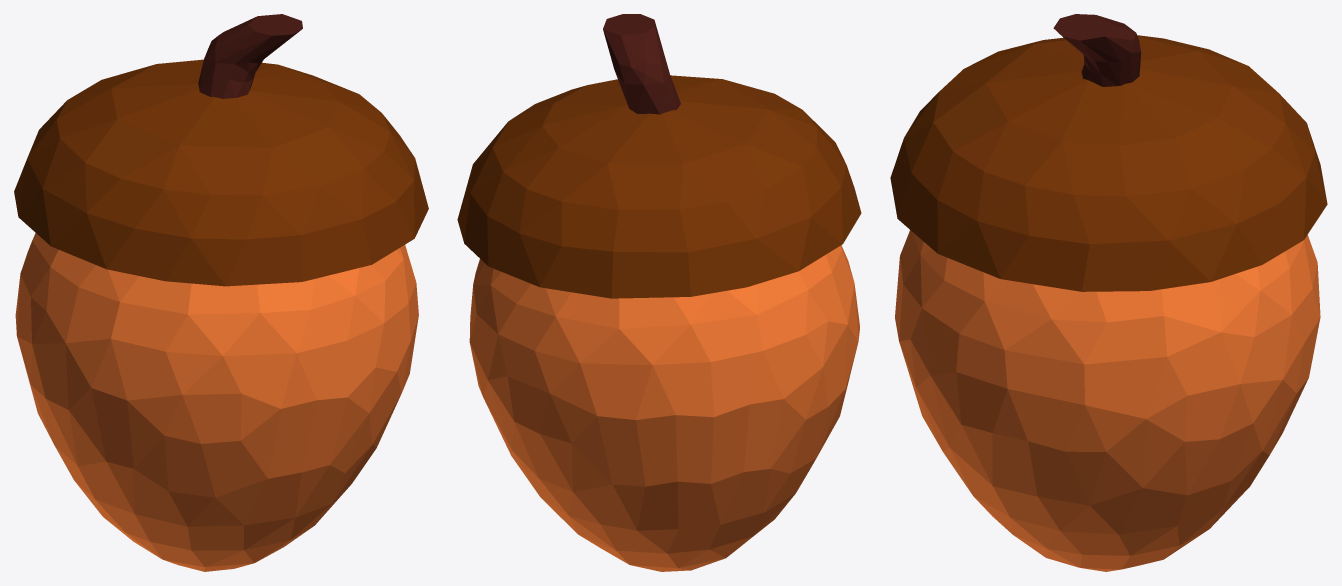
The model's file is Ingredient_acorn_1.fbx.
3 views of the same model, side by side, from view 1: azimuth 30°, elevation 25°; view 2: azimuth 150°, elevation 25°; view 3: azimuth 270°, elevation 25° (orthographic). The views are drawn at different scales.
Visible parts, largest first — view 1: Jar_Acorn.002; view 2: Jar_Acorn.002; view 3: Jar_Acorn.002.
Boxes of the visible parts, bbox=[...] form: Jar_Acorn.002: bbox=[14, 14, 428, 571]; Jar_Acorn.002: bbox=[457, 14, 861, 571]; Jar_Acorn.002: bbox=[890, 14, 1327, 571].
Size of the model in its own units: 24.64 by 35.06 by 24.64.
